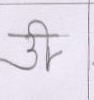i_matra: (31, 18, 56, 70)
